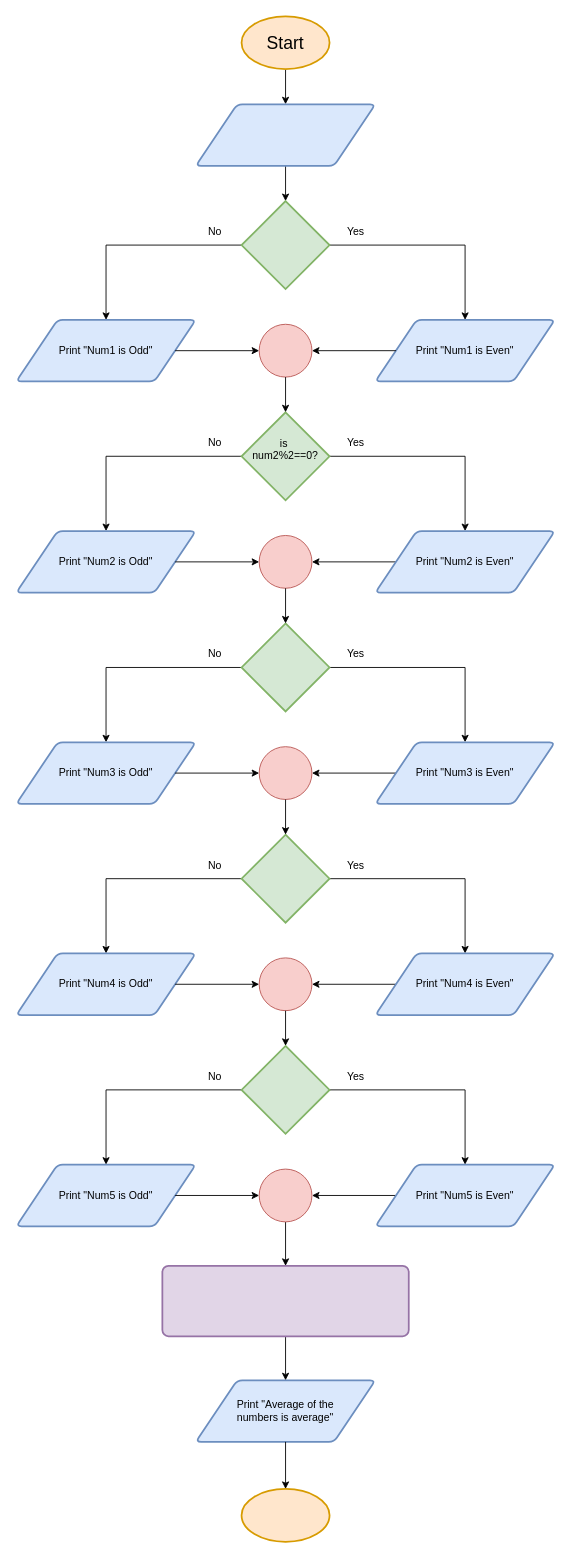
The diagram is 570 pixels wide and 1558 high, and some of its shapes have lost their labels. The box of each missing label's shape, as (x1, y1, x2, y2) in pixels:
average = (num1+num2+num3+num4+num5)/5: (161, 1265, 409, 1337)
End: (240, 1488, 330, 1542)
Input num1, num2, num3, num4, num5: (194, 103, 376, 166)
is num1%2==0?: (240, 200, 330, 290)
is num3%2==0?: (240, 622, 330, 712)
is num4%2==0?: (240, 833, 330, 923)
is num5%2==0?: (240, 1045, 330, 1134)
